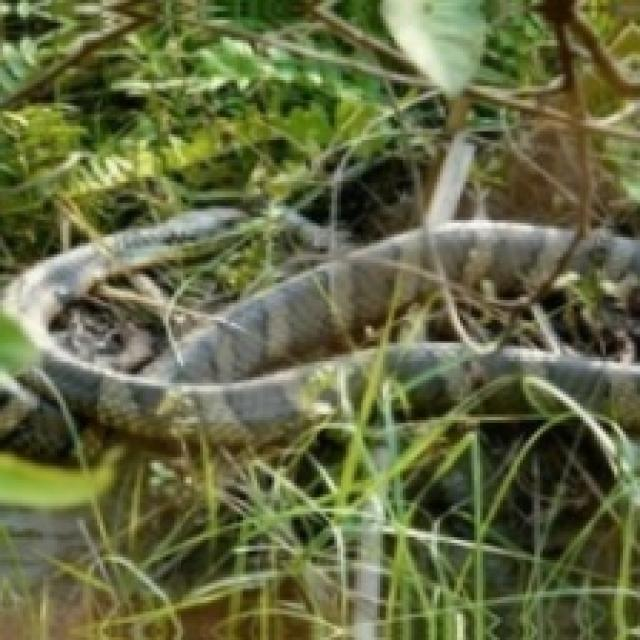king cobra: (3, 209, 637, 440)
